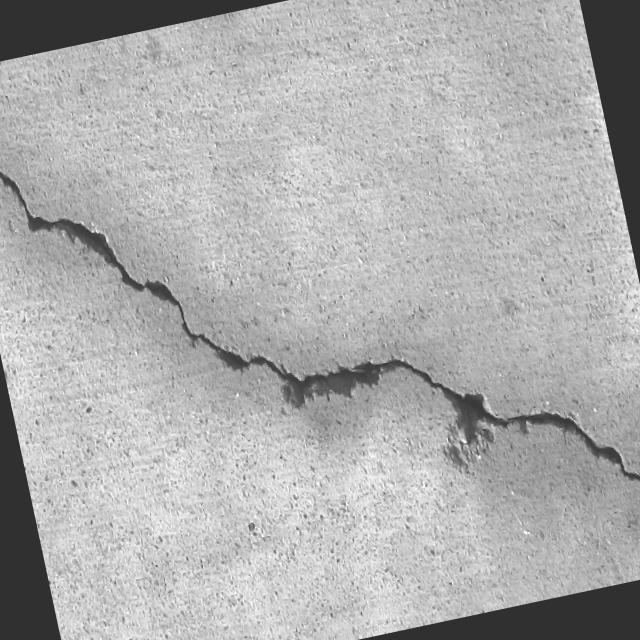crack: (141, 220, 453, 450), (0, 89, 141, 320), (489, 379, 640, 526)
spall: (428, 385, 503, 483)
